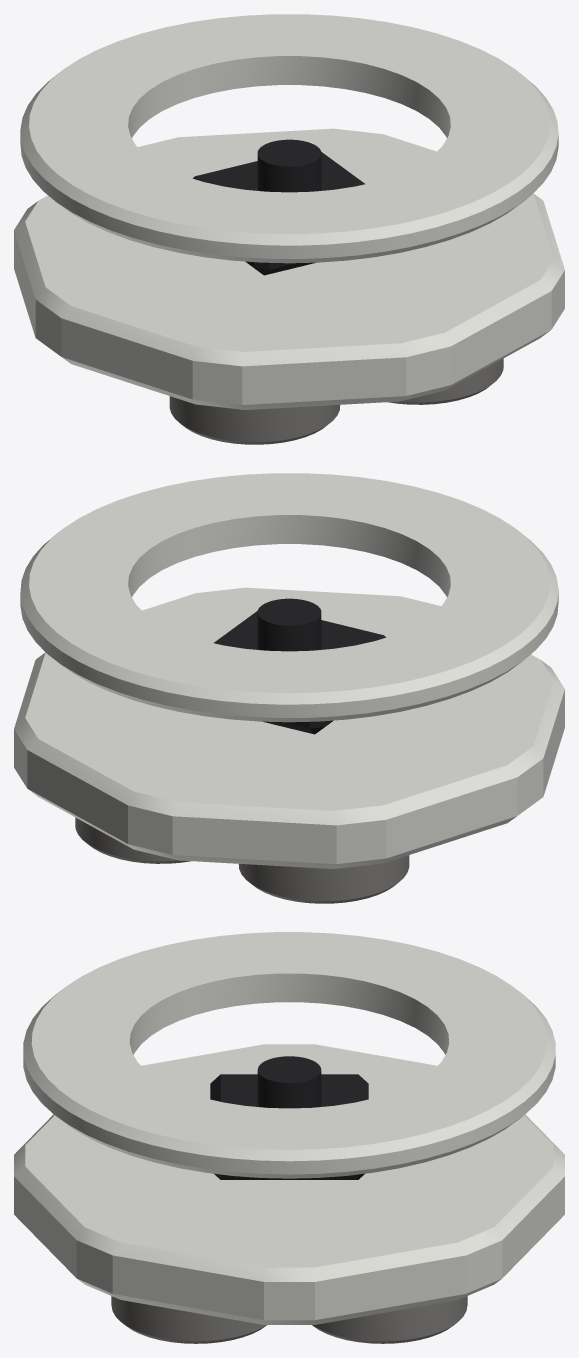
The model's file is ax_prop_16_hall_cluster_xs.glb.
3 views of the same model, one above another, from view 1: azimuth 30°, elevation 25°; view 2: azimuth 150°, elevation 25°; view 3: azimuth 270°, elevation 25° (orthographic).
Visible parts, largest first — view 1: gimbal_plate, mount_ring, thruster_bodies, gimbal; view 2: gimbal_plate, mount_ring, thruster_bodies, gimbal; view 3: gimbal_plate, mount_ring, thruster_bodies, gimbal.
Boxes of the visible parts, box(x1,y1,x2,y2) form: gimbal_plate: box(14, 128, 564, 409); mount_ring: box(20, 14, 558, 263); thruster_bodies: box(169, 358, 503, 444); gimbal: box(193, 139, 365, 275); gimbal_plate: box(14, 587, 564, 868); mount_ring: box(20, 473, 558, 722); thruster_bodies: box(75, 817, 409, 903); gimbal: box(213, 598, 385, 734); gimbal_plate: box(14, 1044, 564, 1324); mount_ring: box(23, 932, 555, 1178); thruster_bodies: box(111, 1296, 467, 1343); gimbal: box(210, 1056, 368, 1179).
Bounding box in the file's own units: 0.6463 × 0.3224 × 0.6463.
Materials: 4 (2 with a texture image).
